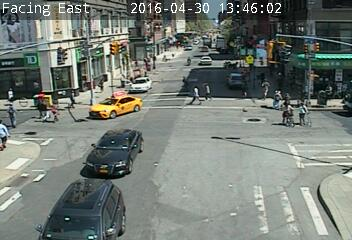neg: (262, 180, 292, 221), (86, 188, 113, 225), (228, 154, 255, 189), (29, 41, 54, 75), (47, 144, 70, 176), (159, 179, 182, 209), (264, 36, 286, 66), (194, 124, 216, 153), (277, 98, 299, 127), (297, 98, 318, 125), (154, 110, 174, 136), (77, 50, 96, 76), (113, 137, 131, 160), (234, 70, 252, 93), (230, 34, 247, 57), (167, 21, 184, 44), (308, 35, 324, 57), (113, 86, 129, 107), (253, 108, 269, 129), (26, 185, 41, 204), (306, 70, 320, 89), (165, 53, 179, 72), (44, 102, 58, 121), (111, 36, 125, 54), (205, 51, 215, 64)
pos: (259, 78, 276, 100), (188, 83, 204, 104), (201, 80, 216, 100)
